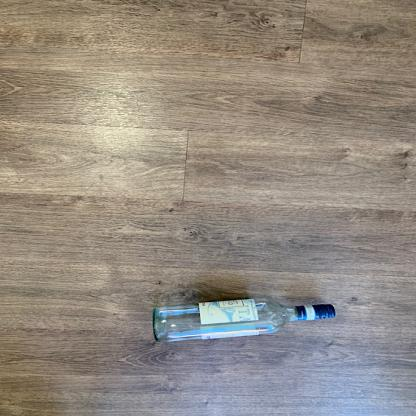trash: (150, 295, 338, 343)
